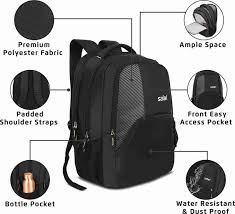backpack: (62, 38, 178, 190)
